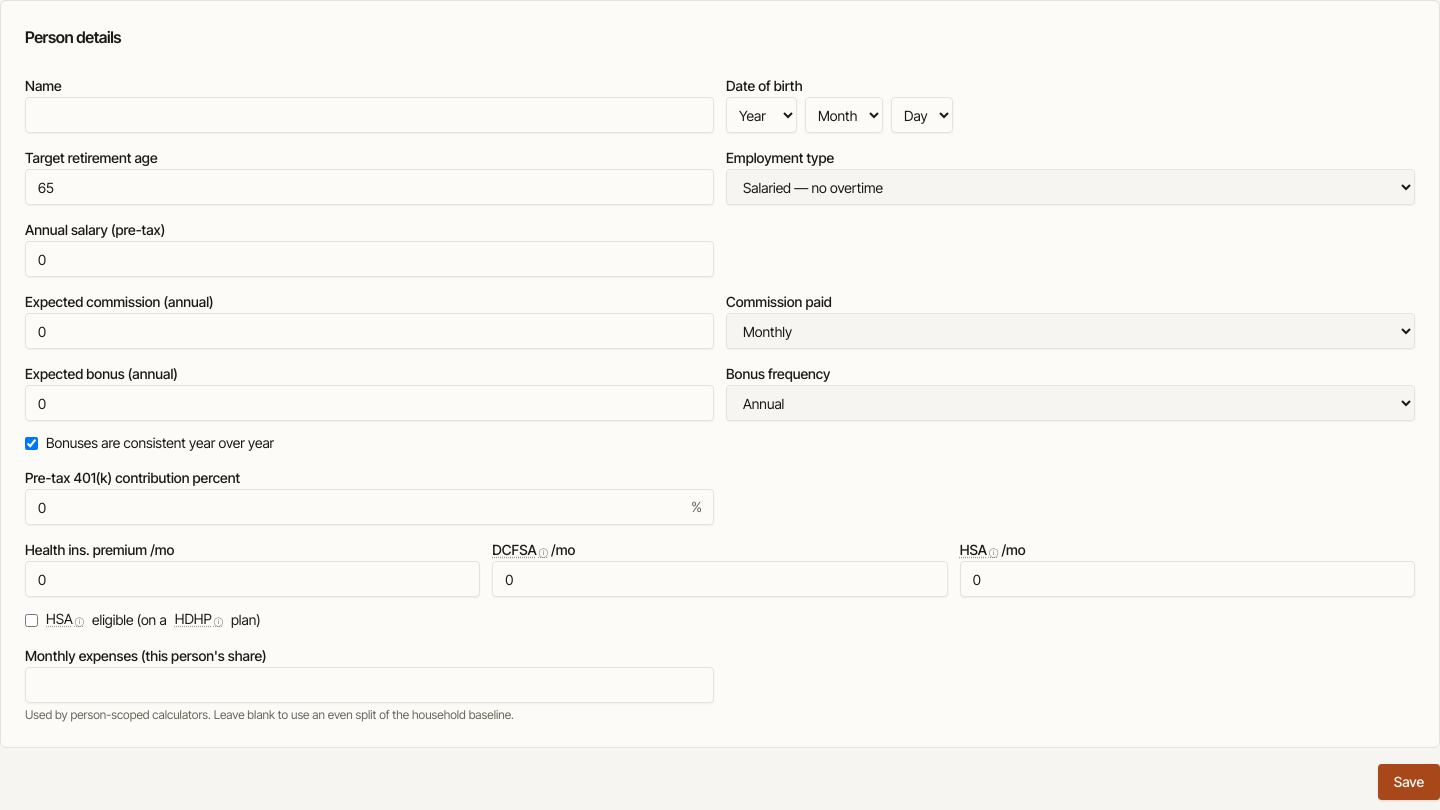
Test case: PersonForm — employment type & bonus fields › switching from SALARY_NO_OT to HOURLY reveals hourly fields and hides annual salary
The image size is (1440, 810).
Expected: the number field labelled "Annual salary (pre-tax)" is shown, [25,241,714,277]
Expected: the field labelled "hourly rate" is not shown
Step 1. Select "Hourly" in the dropdown labelled "Employment type" → point(1070, 187), box [726,169,1415,205]
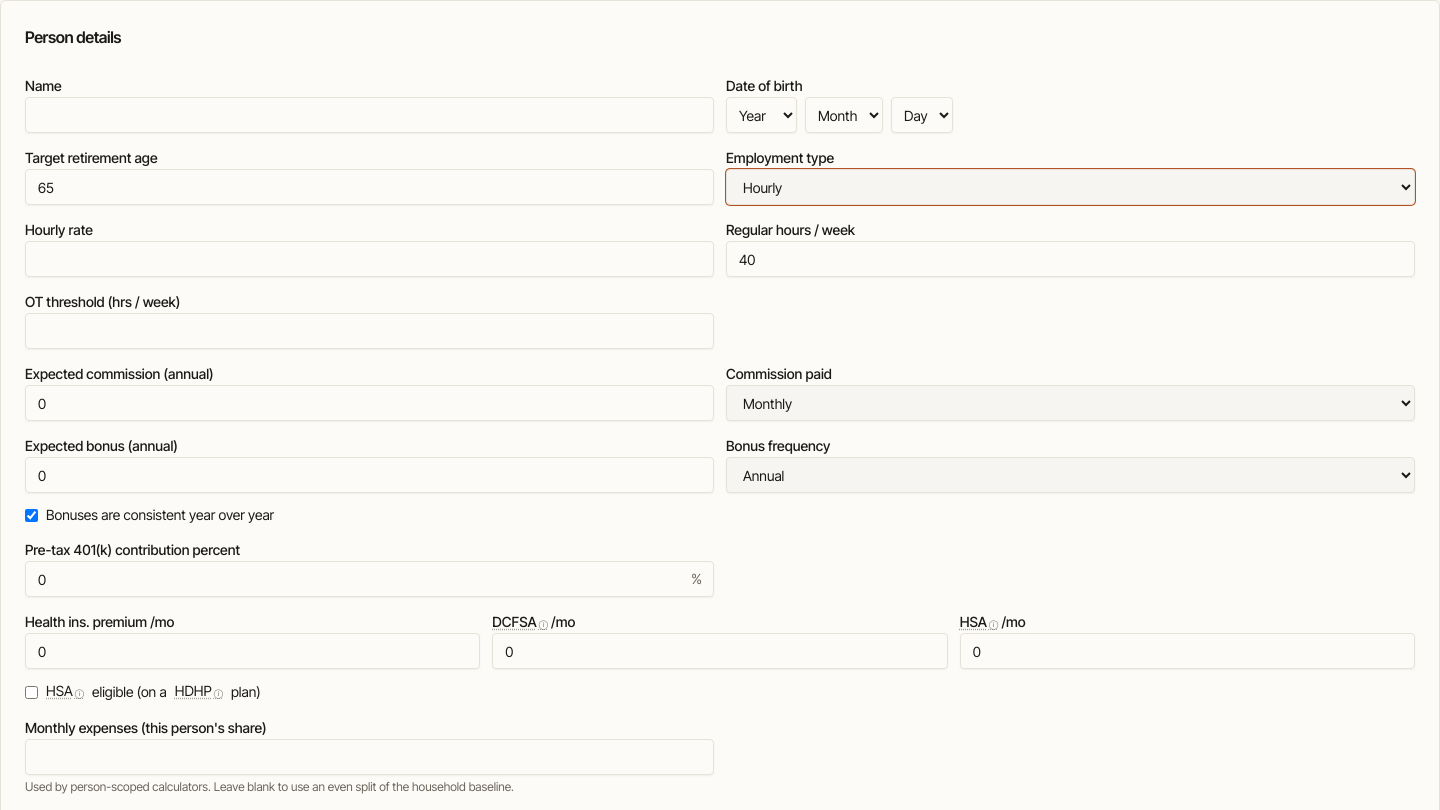
Result: the label labelled "Annual salary" is gone
Result: the number field labelled "Hourly rate" is shown at [25,241,714,277]
Result: the number field labelled "OT threshold (hrs / week)" is shown at [25,313,714,349]
